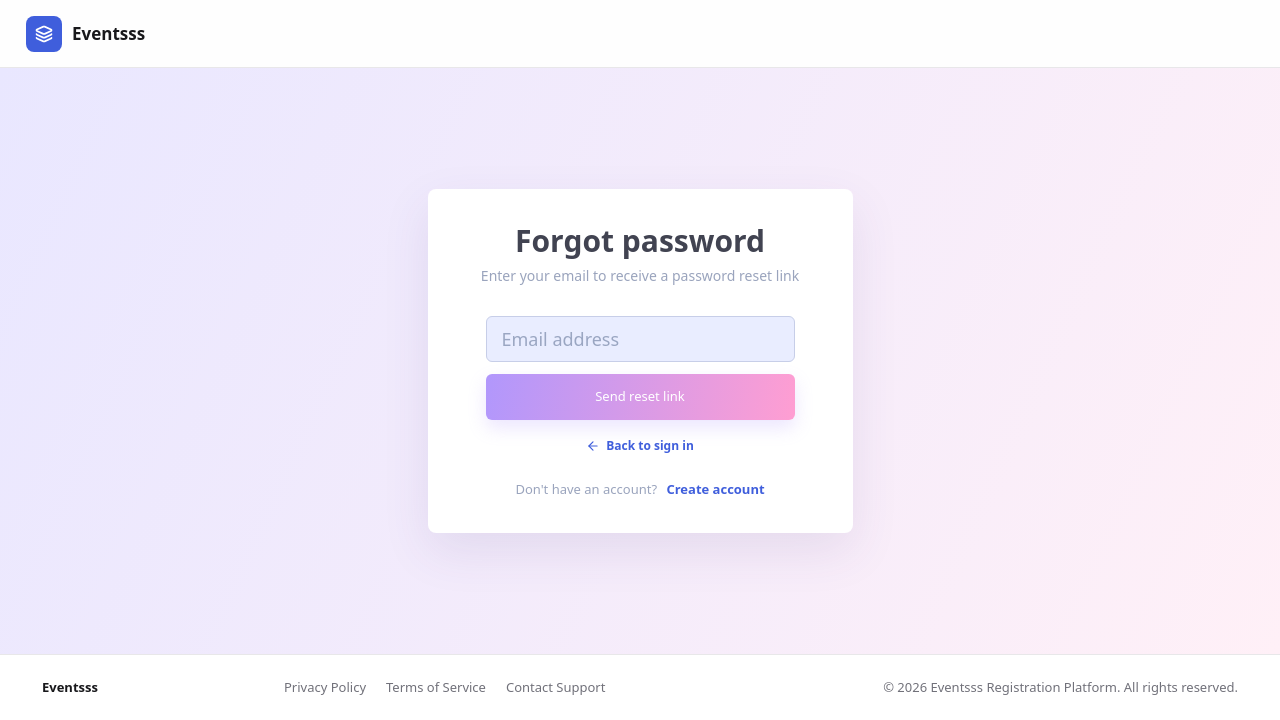
Test case: Account Sign-up, Recovery and Role Selection › AUTH-004 requests a password reset link
The width and height of the screenshot is (1280, 720).
Type "not-an-email" into the field with id "recovery-email".
click(641, 339); type("not-an-email")  # box [486,316,795,362]
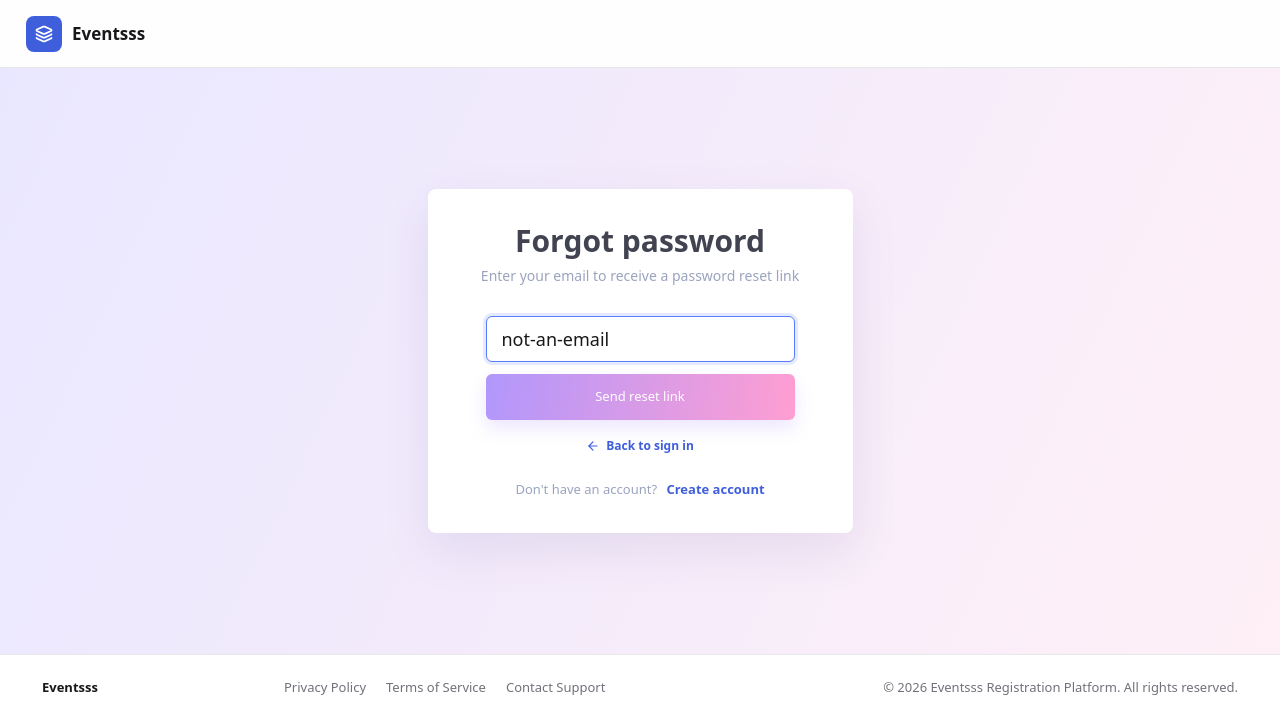
Click the submit button.
click(641, 397)  # box [486,374,795,420]
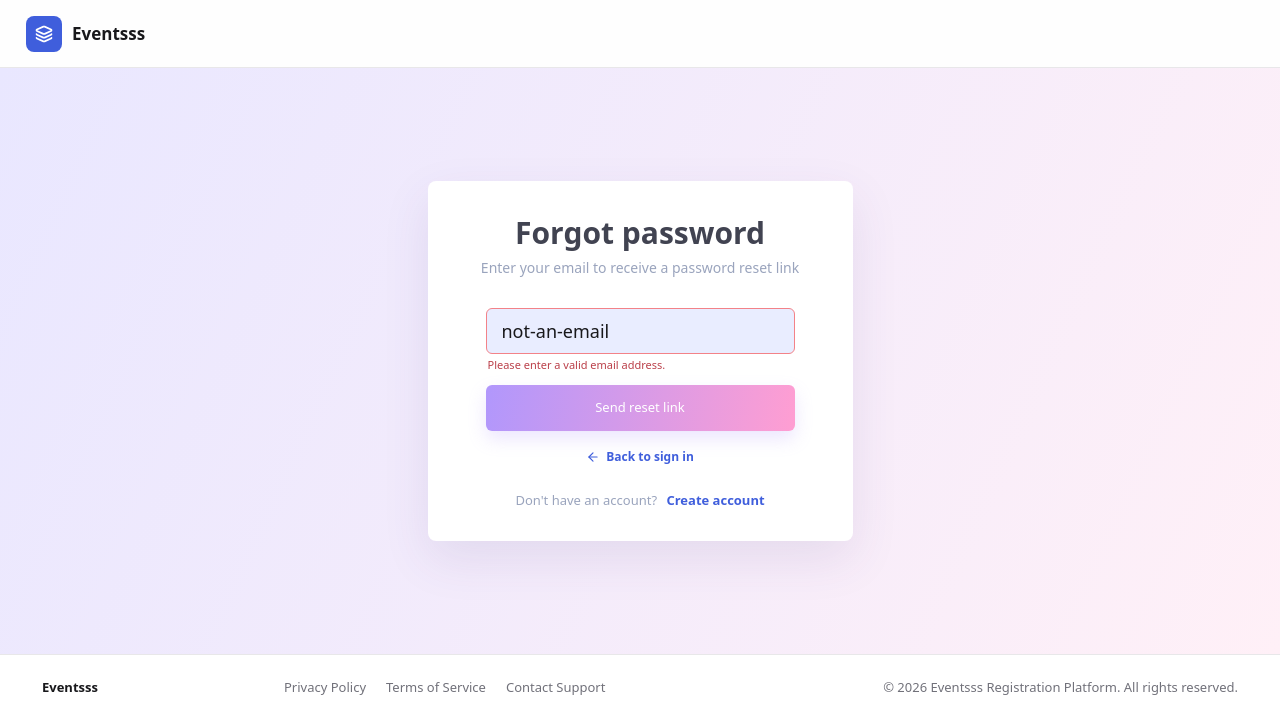
Check: the text "Please enter a valid email address." is shown, box [488,357,665,372]
Replace the text in the field with id "recovery-email" with "demo@example.test" at (641, 331), box [486,308,795,354]
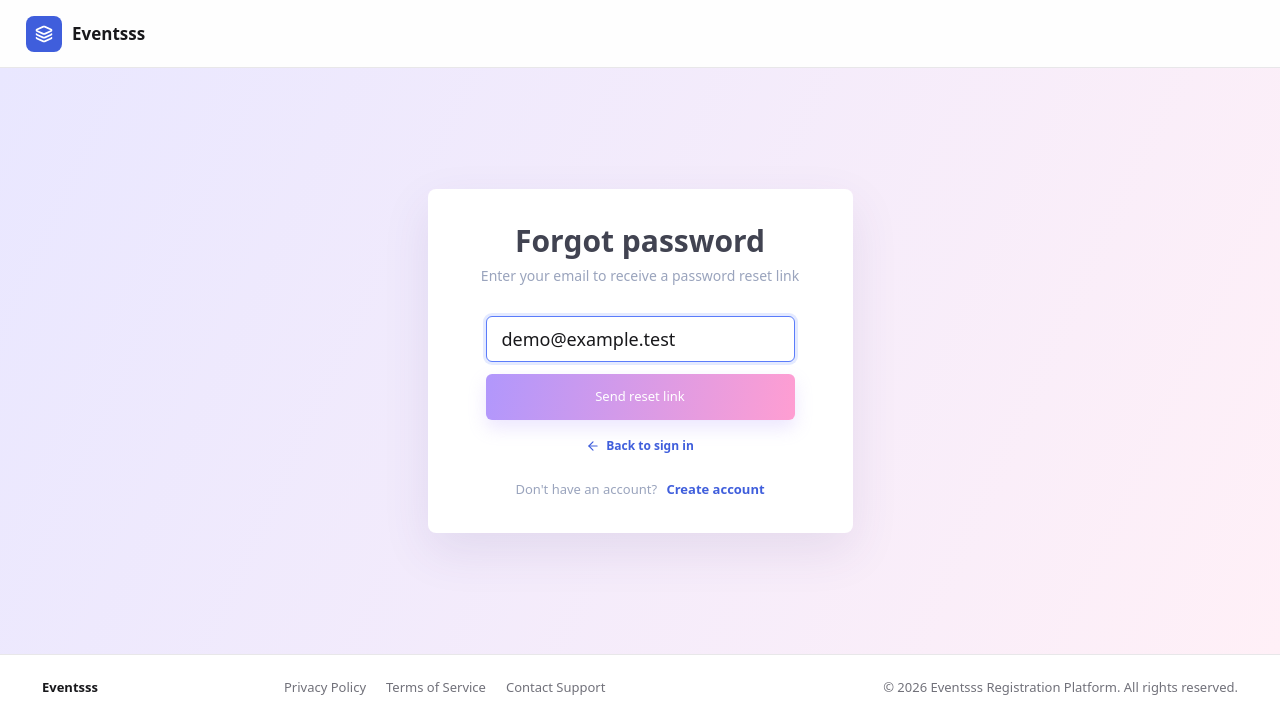
Click the submit button.
click(641, 397)  # box [486,374,795,420]
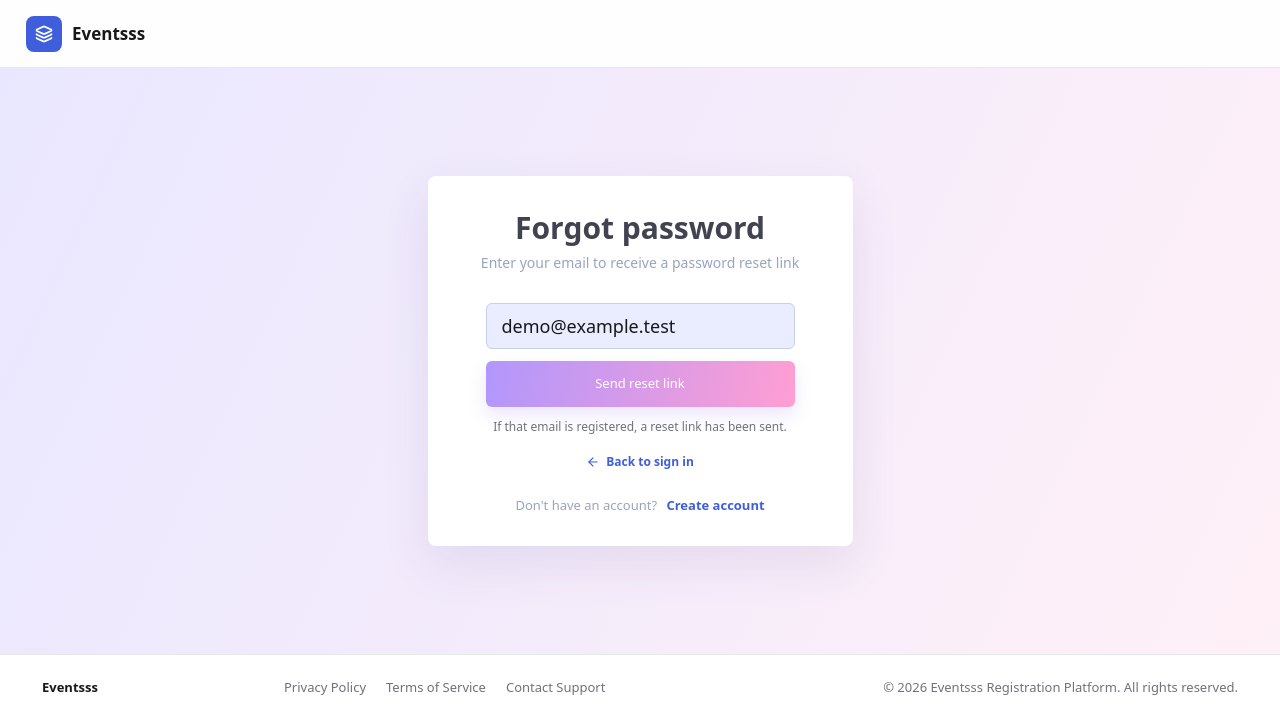
Check: the text with class "request-status" reads "If that email is registered, a reset link has been sent.", box [486,419,795,436]
